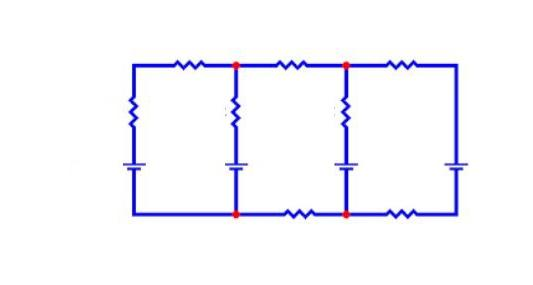resistor: (376, 196, 433, 239), (214, 84, 256, 138), (163, 48, 216, 84), (270, 195, 329, 225), (374, 47, 431, 77), (326, 91, 363, 136), (263, 47, 317, 76), (115, 87, 145, 134)
